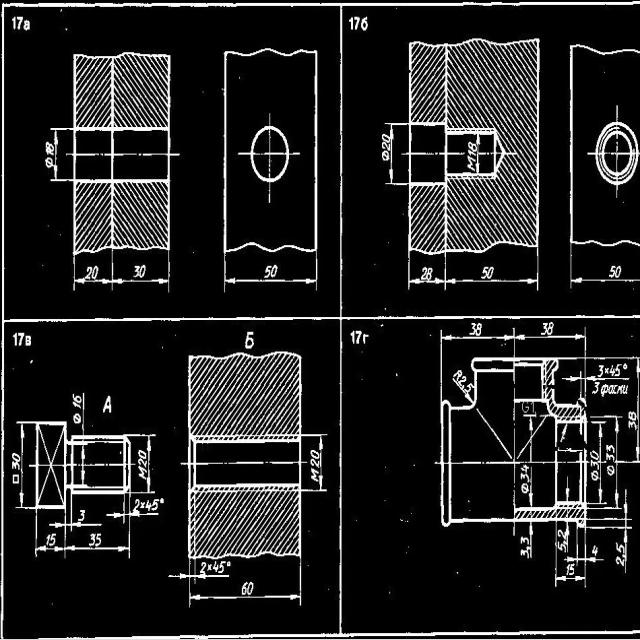marking_line: (167, 559, 303, 607), (587, 356, 640, 466), (223, 255, 320, 292), (444, 254, 540, 291), (64, 510, 131, 560), (589, 415, 622, 511), (569, 245, 640, 289), (560, 356, 628, 399), (111, 251, 170, 292), (563, 530, 605, 586), (511, 327, 587, 357), (439, 330, 471, 400), (587, 525, 633, 573), (440, 329, 516, 356), (553, 530, 586, 587), (15, 420, 35, 511), (588, 420, 607, 506), (131, 433, 157, 495), (302, 434, 329, 493), (35, 510, 66, 561), (384, 123, 408, 186), (407, 255, 447, 291), (588, 490, 632, 522), (74, 257, 115, 290), (49, 127, 73, 183), (67, 496, 103, 532), (48, 509, 103, 528), (194, 561, 230, 586), (129, 497, 162, 519), (523, 413, 536, 462), (106, 495, 127, 524), (452, 376, 473, 404), (562, 372, 583, 397), (169, 560, 191, 583), (527, 467, 535, 507), (527, 524, 535, 558), (474, 135, 480, 172), (81, 445, 86, 484), (564, 476, 571, 502), (81, 391, 85, 435), (560, 423, 568, 442)
numeric: (244, 331, 254, 350), (467, 139, 477, 152), (139, 263, 147, 279), (361, 17, 369, 32), (137, 449, 147, 461), (615, 542, 625, 554), (558, 541, 567, 554), (15, 15, 23, 29), (353, 16, 361, 30), (77, 509, 85, 523), (590, 459, 600, 470), (85, 265, 92, 280), (264, 263, 271, 278), (151, 498, 159, 511), (614, 364, 622, 377), (592, 381, 600, 394), (92, 263, 98, 280), (310, 449, 320, 459), (628, 410, 638, 420), (616, 556, 626, 566), (629, 420, 638, 431), (95, 533, 102, 547), (609, 264, 616, 278), (548, 321, 555, 335), (469, 322, 476, 336), (476, 322, 483, 336), (355, 330, 362, 344), (241, 581, 247, 597), (591, 450, 599, 462), (426, 267, 433, 280), (133, 499, 140, 512), (145, 499, 152, 512), (49, 534, 56, 547), (88, 533, 95, 546), (540, 322, 547, 335), (568, 563, 575, 576), (45, 142, 55, 151), (487, 265, 493, 280), (421, 266, 427, 281), (271, 263, 277, 278), (137, 458, 147, 467), (310, 459, 320, 468), (615, 264, 621, 279), (606, 453, 616, 462), (521, 472, 530, 482), (520, 536, 529, 546), (520, 549, 530, 558), (133, 266, 140, 278), (481, 266, 488, 278), (18, 333, 25, 345), (597, 365, 604, 377), (72, 401, 81, 410), (73, 394, 82, 403), (12, 452, 21, 461), (606, 445, 615, 454), (382, 141, 390, 151), (382, 133, 390, 143), (349, 17, 355, 30), (247, 582, 253, 595), (219, 561, 225, 574), (592, 544, 598, 557), (558, 528, 565, 539), (46, 149, 55, 157), (12, 461, 20, 470), (200, 561, 206, 573), (609, 365, 615, 377), (465, 383, 474, 391), (460, 374, 466, 386), (565, 564, 571, 576), (11, 16, 16, 30), (362, 334, 369, 344), (14, 332, 18, 349), (45, 534, 50, 547), (521, 464, 530, 471), (467, 150, 477, 156), (213, 561, 218, 573), (350, 330, 354, 344), (530, 402, 534, 413)
special_symbol: (44, 157, 54, 170), (72, 411, 82, 424), (606, 465, 615, 477), (381, 150, 390, 161), (590, 470, 599, 481), (521, 483, 529, 493), (13, 474, 19, 484), (208, 563, 212, 571), (160, 498, 165, 504), (141, 502, 145, 509), (623, 363, 627, 369)
